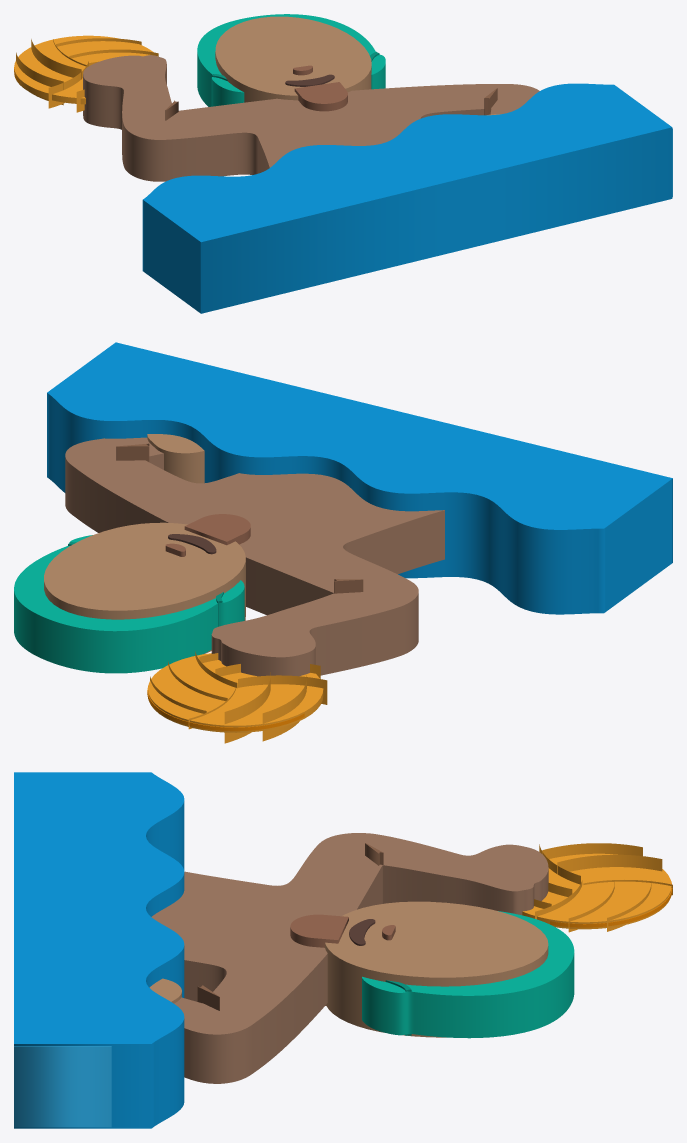
Rendered from emoji_u1f93d_1f3fd_200d_2642.glb.
3 renders of one model, top to bottom at view 1: azimuth 30°, elevation 25°; view 2: azimuth 150°, elevation 25°; view 3: azimuth 270°, elevation 25°, orthographic. The views are drawn at different scales.
Parts seen in each view (by area): view 1: emoji_u1f93d_1f3fd_200d_2642; view 2: emoji_u1f93d_1f3fd_200d_2642; view 3: emoji_u1f93d_1f3fd_200d_2642.
Part boxes in pixels (bbox=[...]): emoji_u1f93d_1f3fd_200d_2642: bbox=[14, 14, 672, 313]; emoji_u1f93d_1f3fd_200d_2642: bbox=[14, 342, 672, 743]; emoji_u1f93d_1f3fd_200d_2642: bbox=[14, 772, 672, 1128].
Size of the model in its own units: 0.0331 by 0.0048 by 0.0339.
